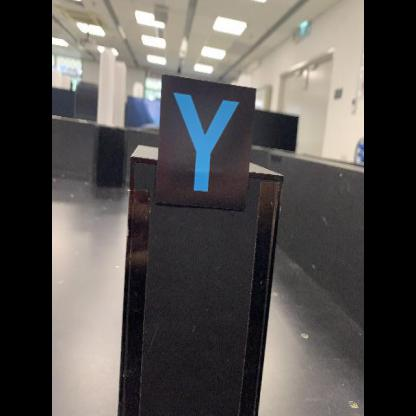y: (155, 72, 259, 215)
